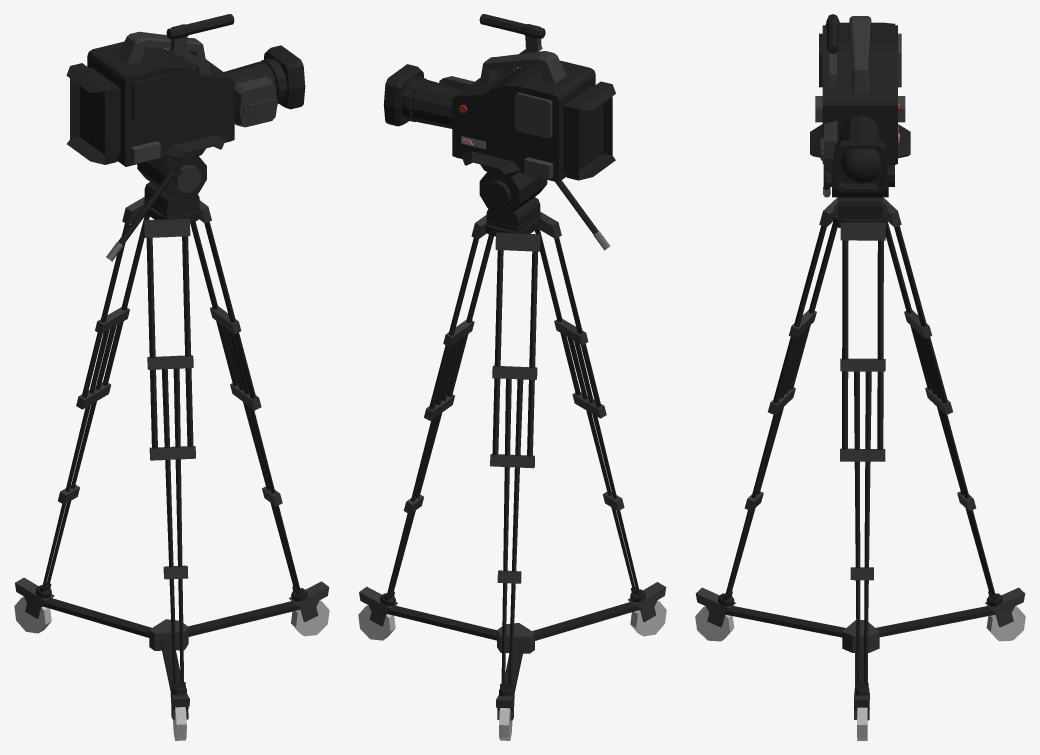
File: SM_Camera_01.glb
3 renders of one model, left to right at view 1: azimuth 30°, elevation 25°; view 2: azimuth 150°, elevation 25°; view 3: azimuth 270°, elevation 25°, orthographic. The views are drawn at different scales.
Visible parts, largest first — view 1: SM_Camera_01; view 2: SM_Camera_01; view 3: SM_Camera_01.
Boxes of the visible parts, x1=… form: SM_Camera_01: x1=14, y1=14, x2=329, y2=740; SM_Camera_01: x1=358, y1=14, x2=666, y2=740; SM_Camera_01: x1=695, y1=14, x2=1025, y2=740.
Size of the model in its own units: 0.6108 by 1.53 by 0.7057.
Materials: 1 (1 with a texture image).
